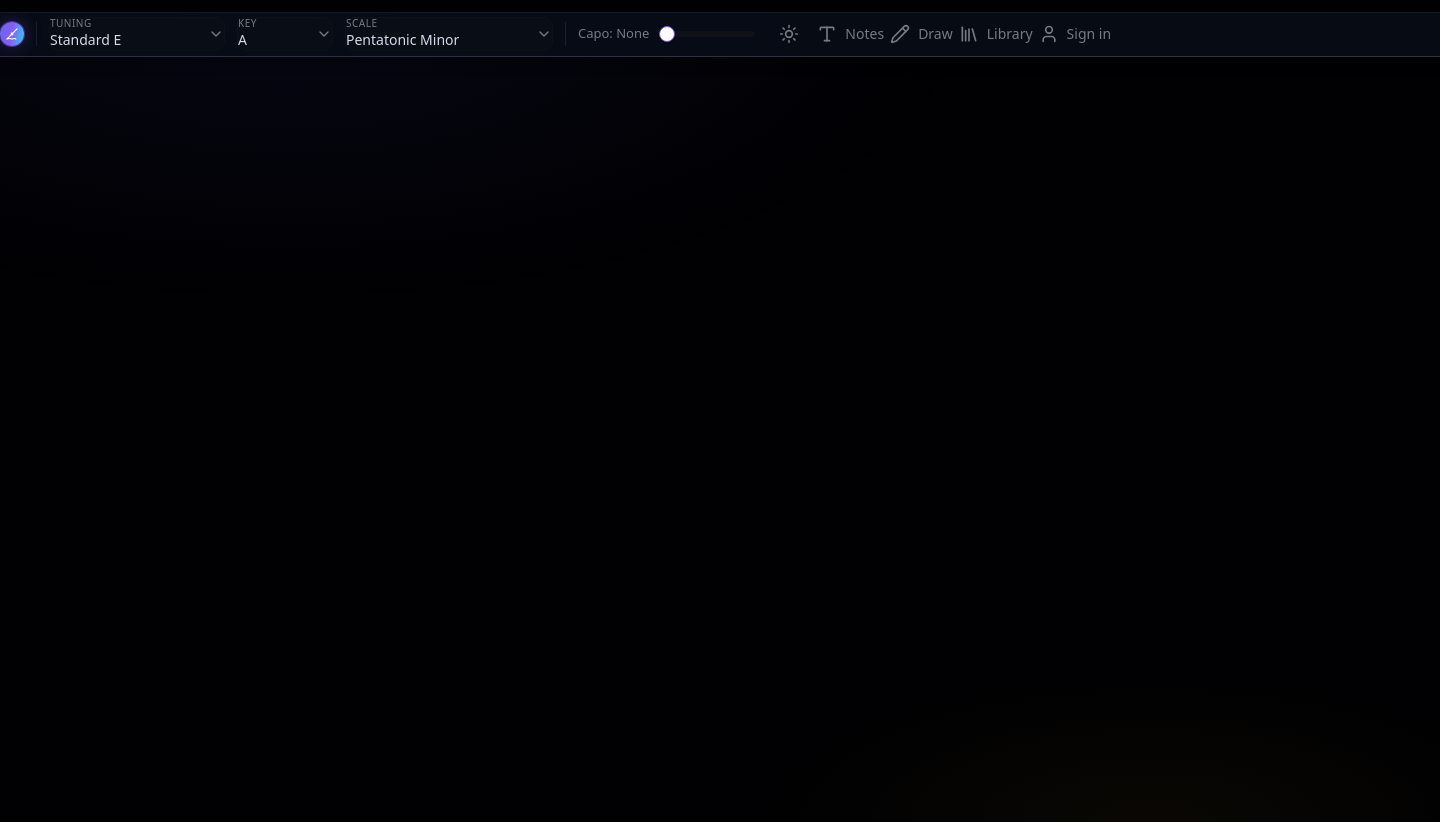
Test: ControlBar › ScaleSelect renders at least one option when opened
What coordinates should you click on to do the following:
click the dropdown labelled "Scale"
I would click on:
 (449, 34)
Its box is [345,17,553,51].
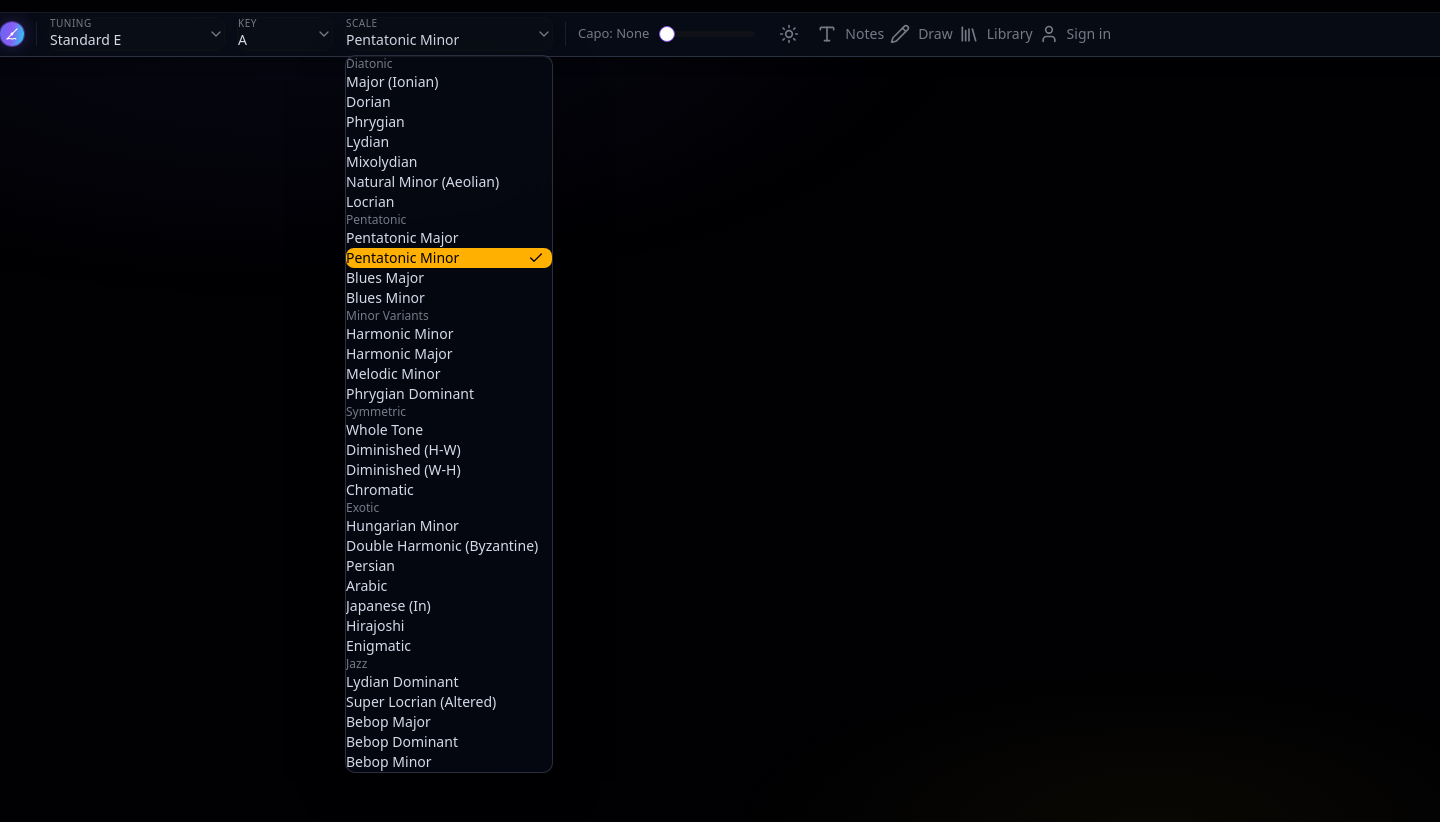
Check: the number of options is 31
